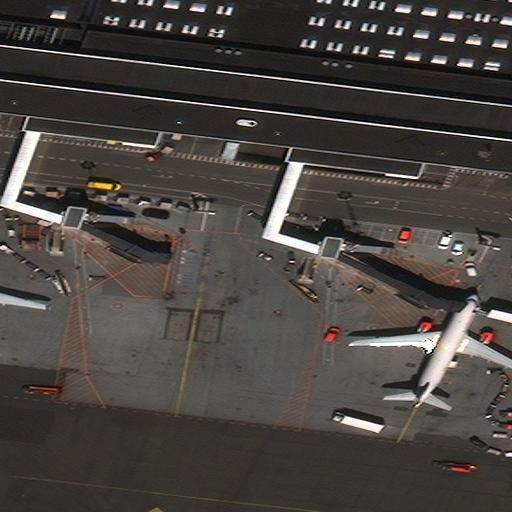Medium Civil Transport: (350, 290, 512, 412)
